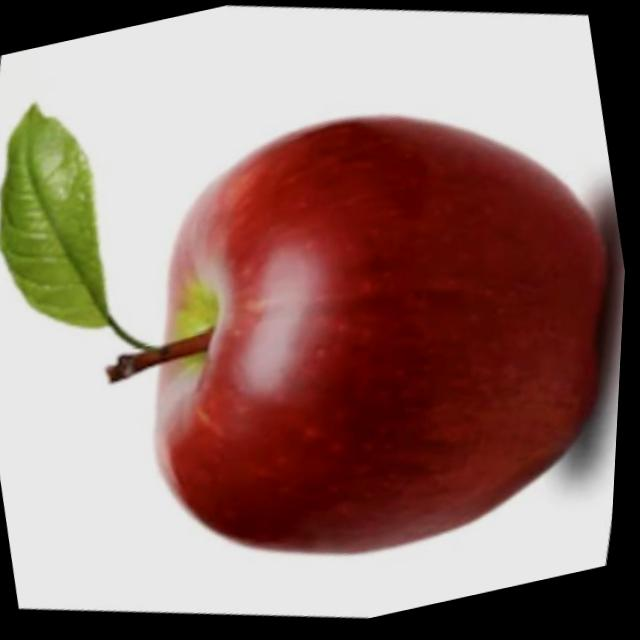Apple: (66, 65, 637, 607)
